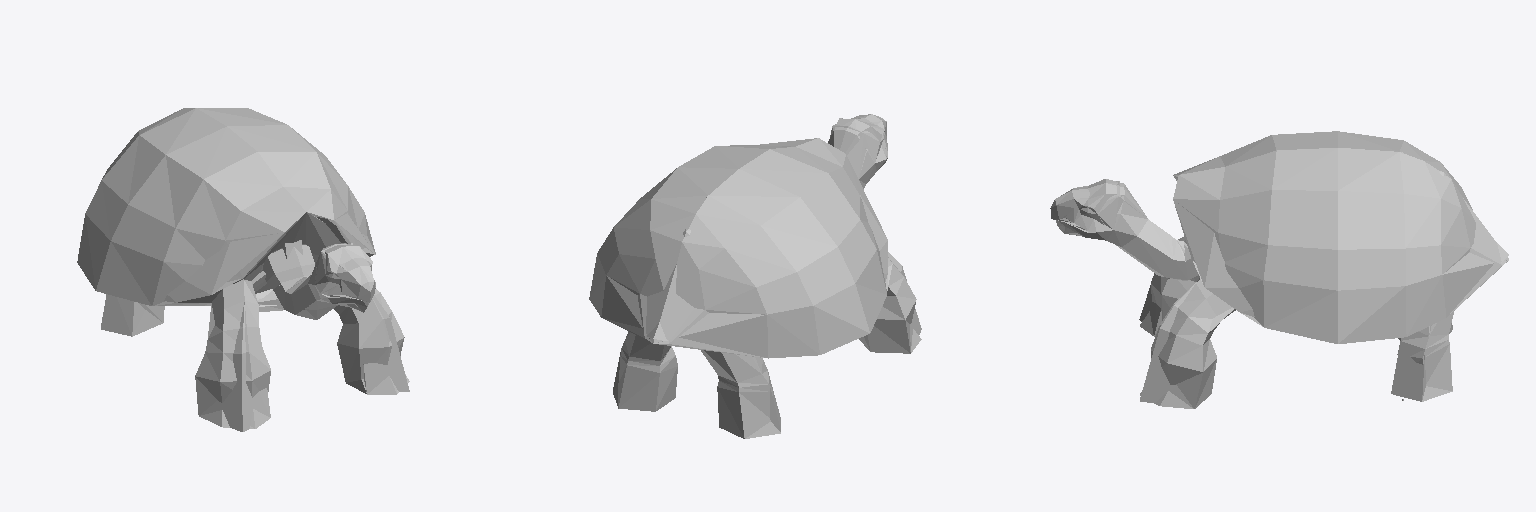
Rendered from Galapagos Tortoise.obj.
The picture shows the model from 3 angles: view 1: azimuth 30°, elevation 25°; view 2: azimuth 150°, elevation 25°; view 3: azimuth 270°, elevation 25°; orthographic projection.
Parts seen in each view (by area): view 1: Galapagos_Tortoise; view 2: Galapagos_Tortoise; view 3: Galapagos_Tortoise.
Part boxes in pixels (bbox=[...]): Galapagos_Tortoise: bbox=[77, 108, 409, 431]; Galapagos_Tortoise: bbox=[589, 114, 921, 438]; Galapagos_Tortoise: bbox=[1050, 131, 1508, 408].
Size of the model in its own units: 1.27 by 0.9991 by 1.92.